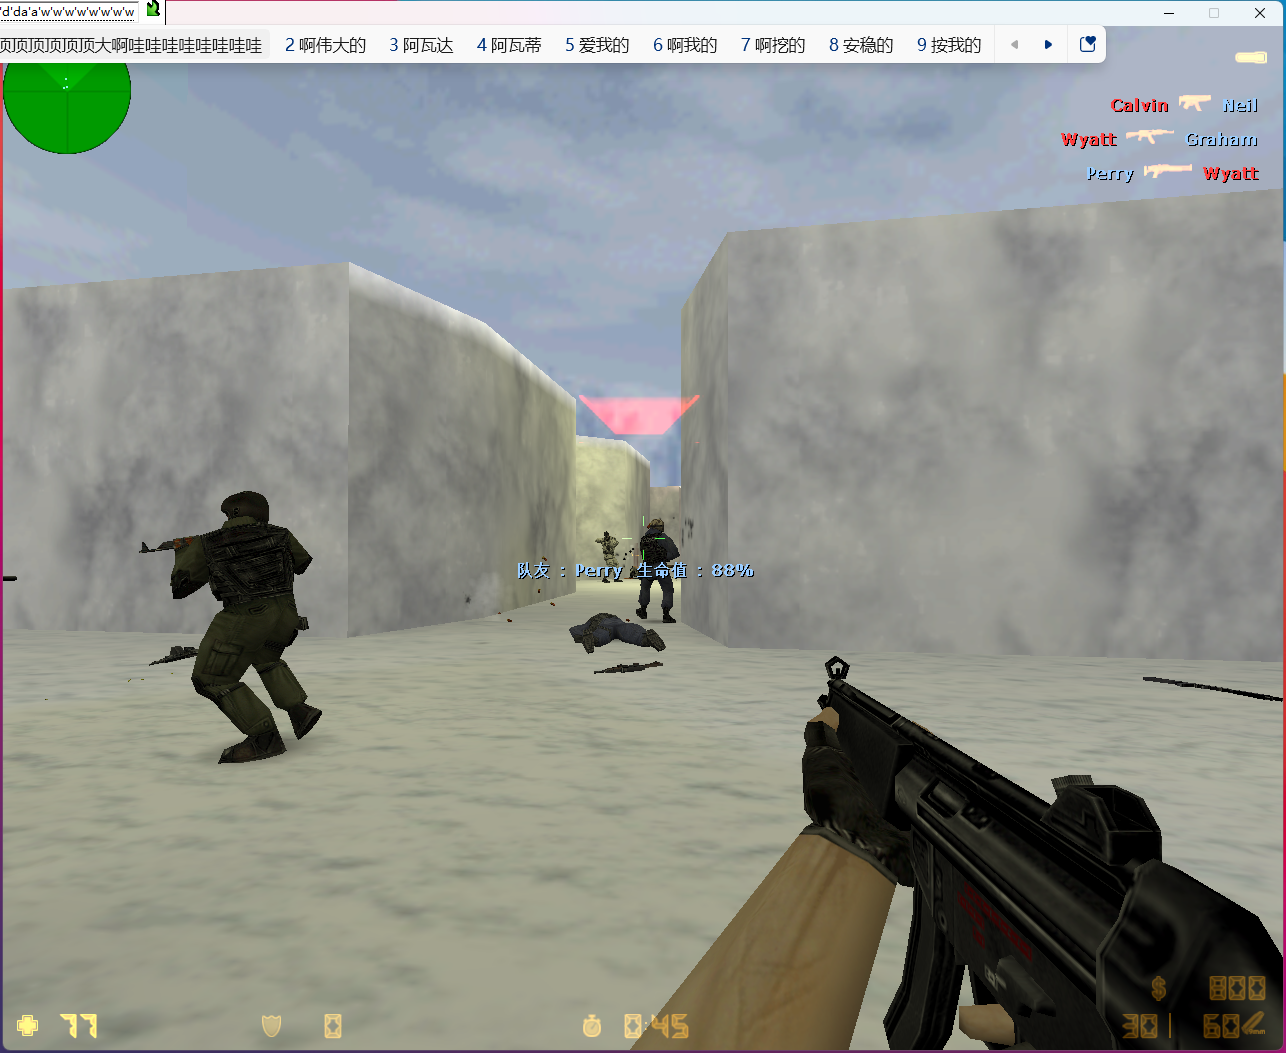C: (141, 491, 323, 766), (636, 518, 673, 625)
T: (595, 528, 620, 586)
dead: (567, 611, 666, 653)
weapon: (1145, 674, 1286, 703), (142, 643, 202, 667), (590, 659, 666, 676)
